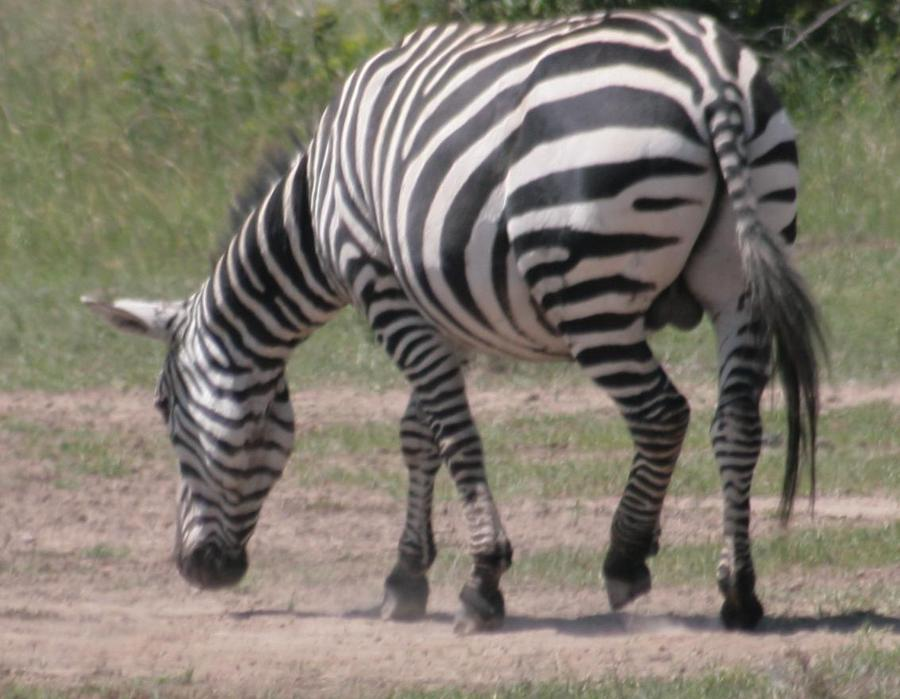zebra_plains: (289, 22, 722, 477)
